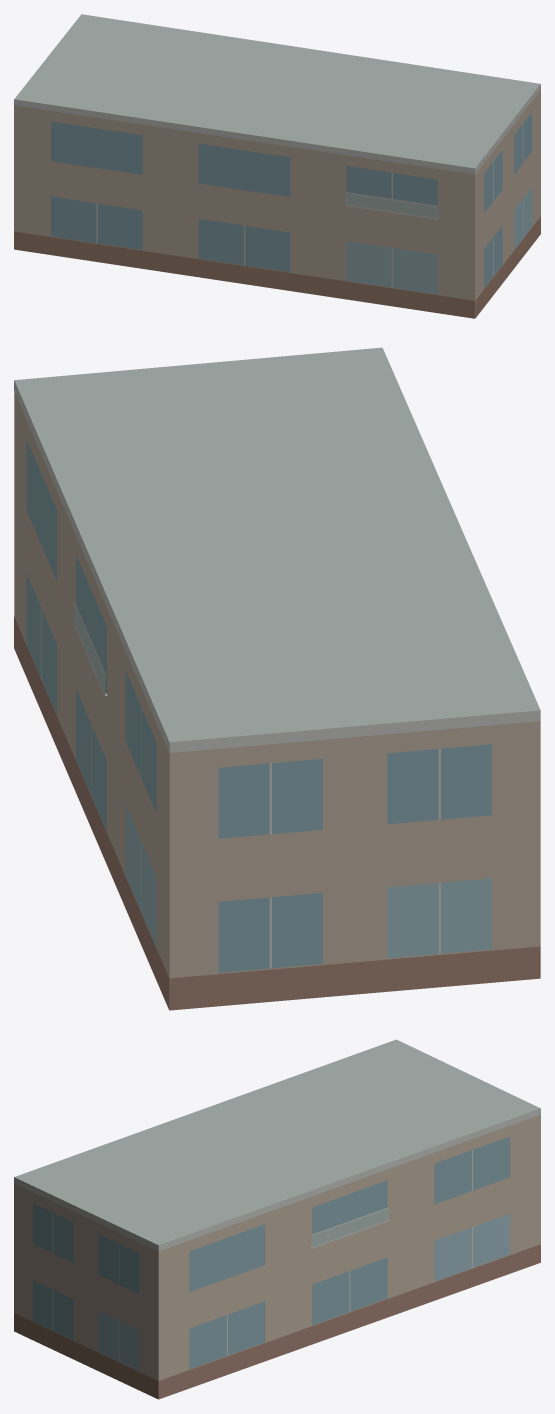
Rendered from survey-upis-32687956.glb.
3 renders of one model, top to bottom at view 1: azimuth 30°, elevation 25°; view 2: azimuth 150°, elevation 25°; view 3: azimuth 270°, elevation 25°, orthographic. The views are drawn at different scales.
Parts seen in each view (by area): view 1: survey-upis-32687956.tmp; view 2: survey-upis-32687956.tmp; view 3: survey-upis-32687956.tmp.
Part boxes in pixels (x1,y1,x2,y2): survey-upis-32687956.tmp: (14,14,540,318); survey-upis-32687956.tmp: (14,347,540,1010); survey-upis-32687956.tmp: (14,1039,540,1399).
Size of the model in its own units: 17.47 by 6.1 by 18.89.
